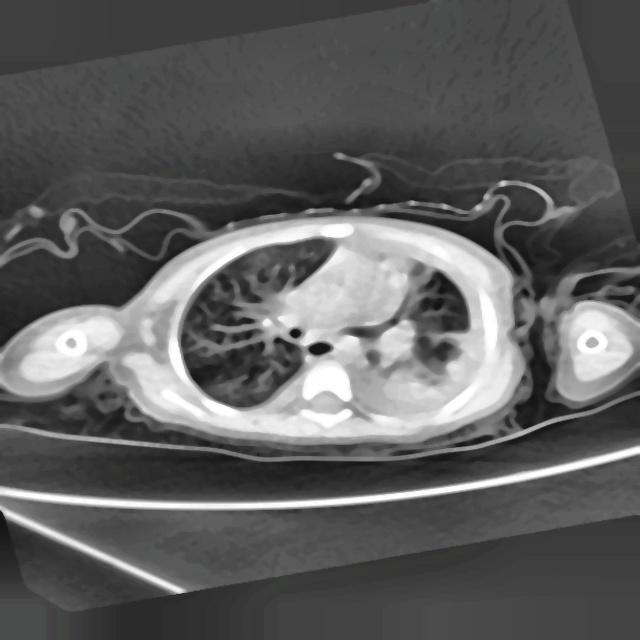covid: (1, 204, 537, 456)
